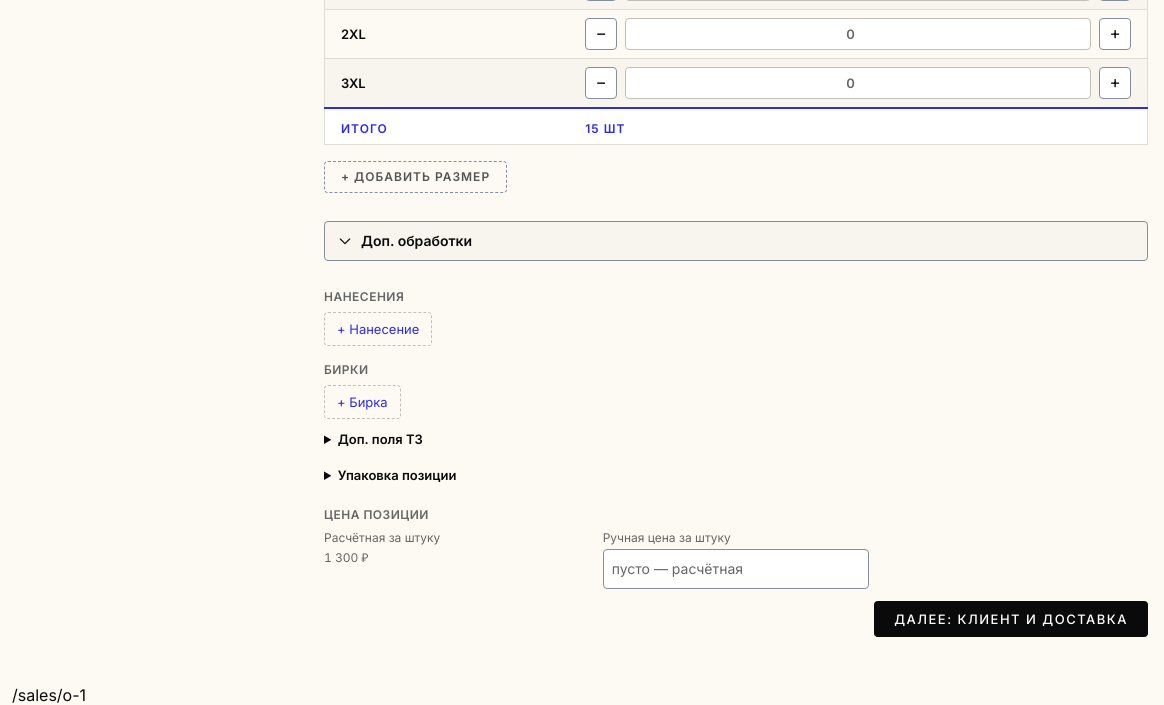
Test: OrderWorkplace — вкладка «Изделие» › «Далее: клиент и доставка» открывает вкладку клиента
The image size is (1164, 705).
(page scrolled)
Click the button "Далее: клиент и доставка": [1011, 619] box left=874, top=601, right=1148, bottom=637
(page scrolled)
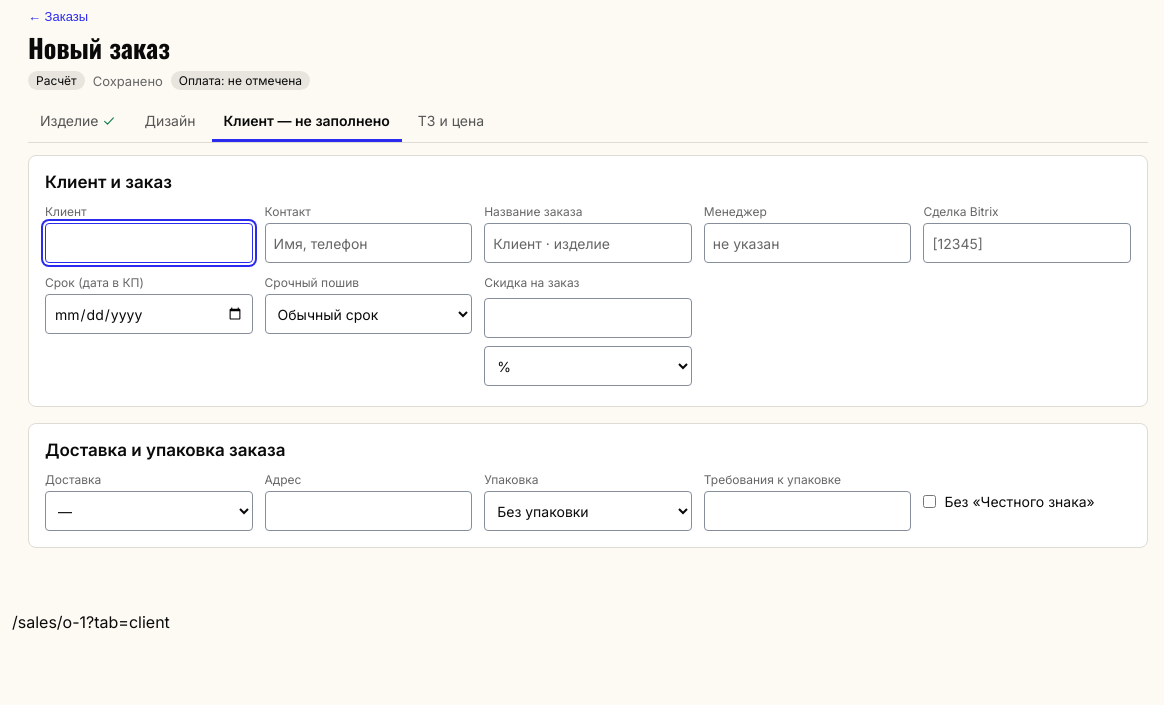
Result: the text with test id "location" shows "tab=client" at left=86, top=612, right=170, bottom=632
